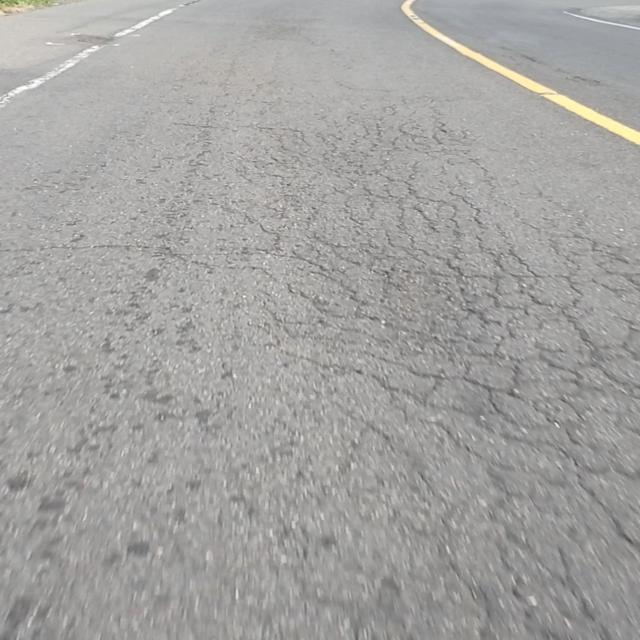Retak Buaya: (265, 113, 640, 640)
